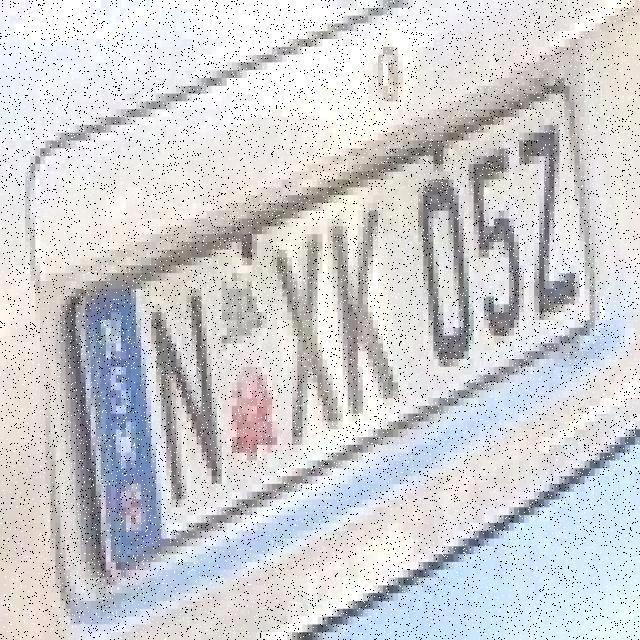LicensePlate: (45, 75, 604, 576)
